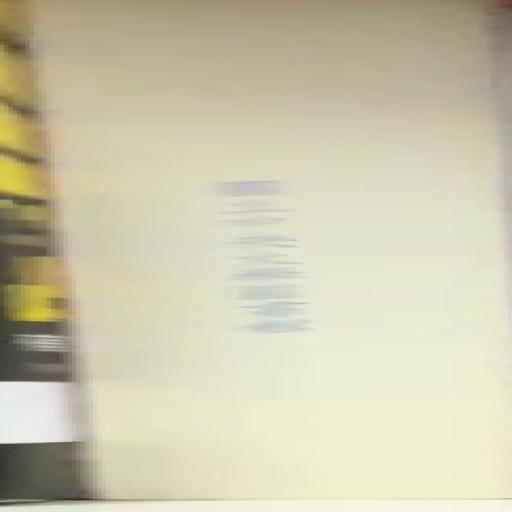backward: (1, 1, 509, 512)
